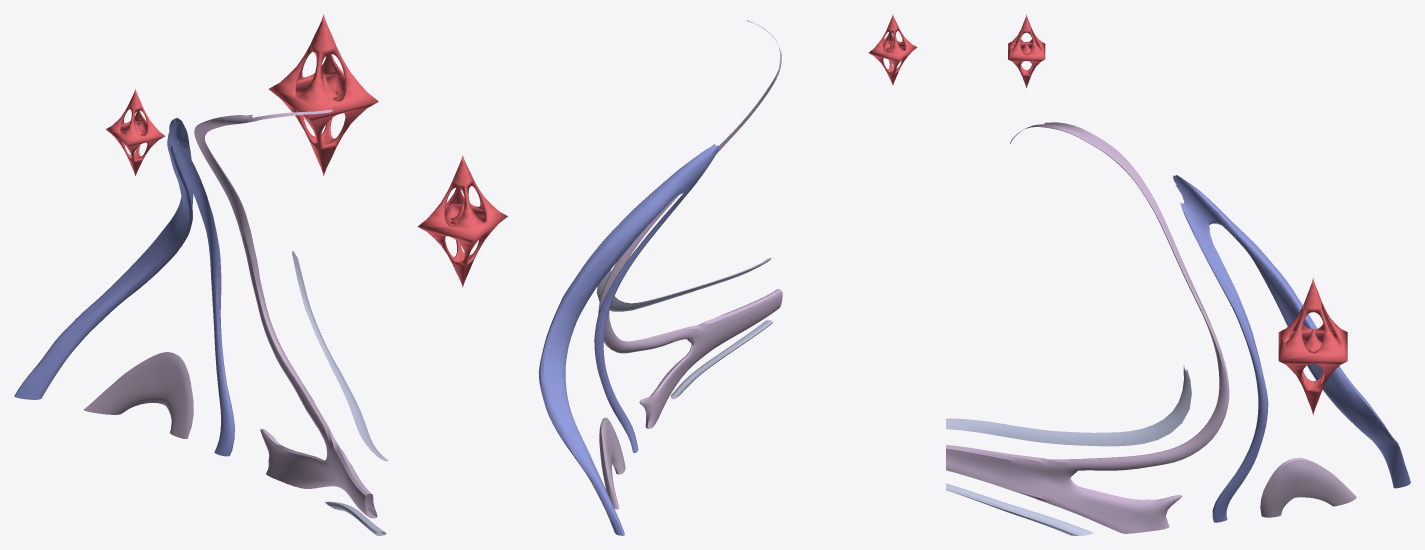
The model's file is SM_Butterfly_Front_LT_1.fbx.
3 views of the same model, side by side, from view 1: azimuth 30°, elevation 25°; view 2: azimuth 150°, elevation 25°; view 3: azimuth 270°, elevation 25° (orthographic). The views are drawn at different scales.
Parts seen in each view (by area): view 1: 1; view 2: 1; view 3: 1.
Part boxes in pixels (bbox=[...]): 1: bbox=[14, 14, 388, 535]; 1: bbox=[418, 14, 917, 535]; 1: bbox=[946, 14, 1410, 535].
Size of the model in its own units: 119 by 138 by 137.
